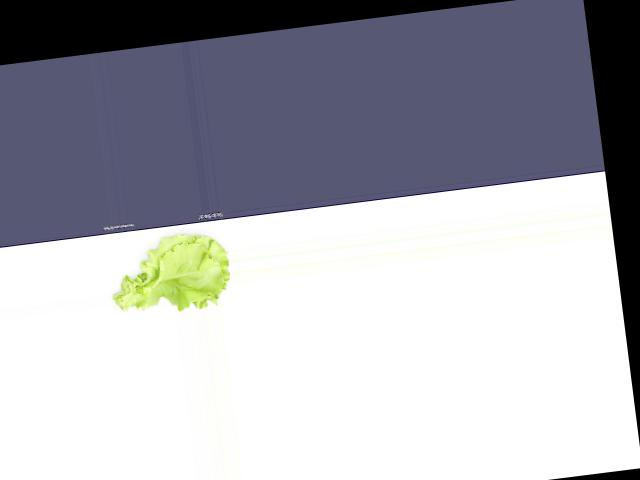lettuce: (107, 222, 234, 320)
